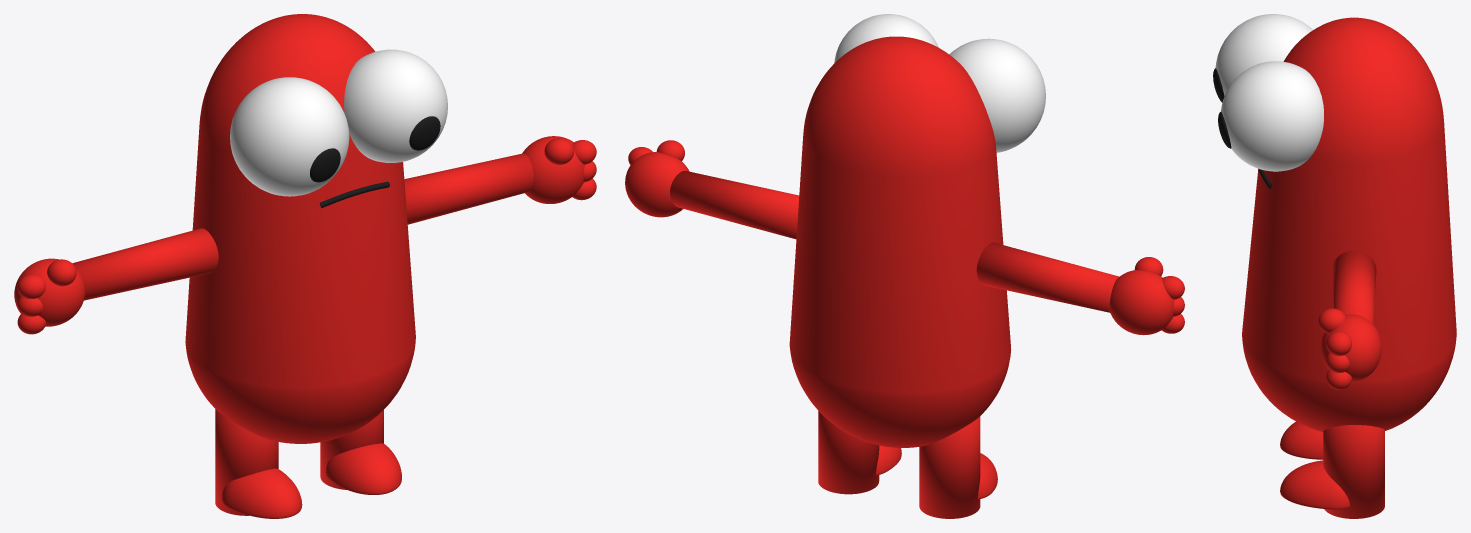
Rendered from red_bean.fbx.
3 views of the same model, side by side, from view 1: azimuth 30°, elevation 25°; view 2: azimuth 150°, elevation 25°; view 3: azimuth 270°, elevation 25° (orthographic). The views are drawn at different scales.
Parts seen in each view (by area): view 1: Body, Eye.R, Eye.L, Arm.R, Arm.L, Leg.R, Foot.R, Foot.L, Hand.L, Hand.R, Leg.L, Pupil.L (+1 smaller); view 2: Body, Eye.R, Arm.R, Arm.L, Leg.R, Leg.L, Hand.R, Hand.L, Eye.L, Foot.R; view 3: Body, Eye.L, Leg.L, Eye.R, Arm.L, Foot.L, Hand.L, Foot.R, Finger1.L, Thumb.L, Finger3.L, Finger2.L.
Part boxes in pixels (x1=…): Body: x1=185, y1=14, x2=415, y2=443; Eye.R: x1=230, y1=77, x2=349, y2=196; Eye.L: x1=344, y1=49, x2=447, y2=162; Arm.R: x1=72, y1=228, x2=218, y2=300; Arm.L: x1=404, y1=153, x2=533, y2=224; Leg.R: x1=215, y1=409, x2=278, y2=515; Foot.R: x1=221, y1=468, x2=302, y2=518; Foot.L: x1=325, y1=443, x2=401, y2=494; Hand.L: x1=522, y1=136, x2=584, y2=203; Hand.R: x1=14, y1=258, x2=84, y2=326; Leg.L: x1=320, y1=410, x2=383, y2=489; Pupil.L: x1=409, y1=116, x2=440, y2=150; Body: x1=789, y1=36, x2=1010, y2=447; Eye.R: x1=949, y1=38, x2=1045, y2=152; Arm.R: x1=976, y1=242, x2=1118, y2=312; Arm.L: x1=670, y1=171, x2=799, y2=239; Leg.R: x1=919, y1=416, x2=980, y2=518; Leg.L: x1=818, y1=411, x2=879, y2=494; Hand.R: x1=1109, y1=270, x2=1174, y2=335; Hand.L: x1=625, y1=152, x2=689, y2=217; Eye.L: x1=834, y1=14, x2=938, y2=62; Foot.R: x1=978, y1=453, x2=997, y2=499; Body: x1=1242, y1=17, x2=1456, y2=431; Eye.L: x1=1221, y1=61, x2=1323, y2=171; Leg.L: x1=1323, y1=425, x2=1384, y2=518; Eye.R: x1=1215, y1=14, x2=1312, y2=95; Arm.L: x1=1332, y1=251, x2=1376, y2=324; Foot.L: x1=1280, y1=460, x2=1349, y2=509; Hand.L: x1=1321, y1=314, x2=1381, y2=381; Foot.R: x1=1280, y1=421, x2=1323, y2=459; Finger1.L: x1=1326, y1=331, x2=1351, y2=355; Thumb.L: x1=1318, y1=308, x2=1345, y2=333; Finger3.L: x1=1326, y1=369, x2=1352, y2=389; Finger2.L: x1=1326, y1=352, x2=1349, y2=372.
Bounding box in the file's own units: 241 × 187 × 90.79.
